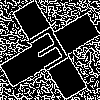E: (25, 25, 77, 82)
